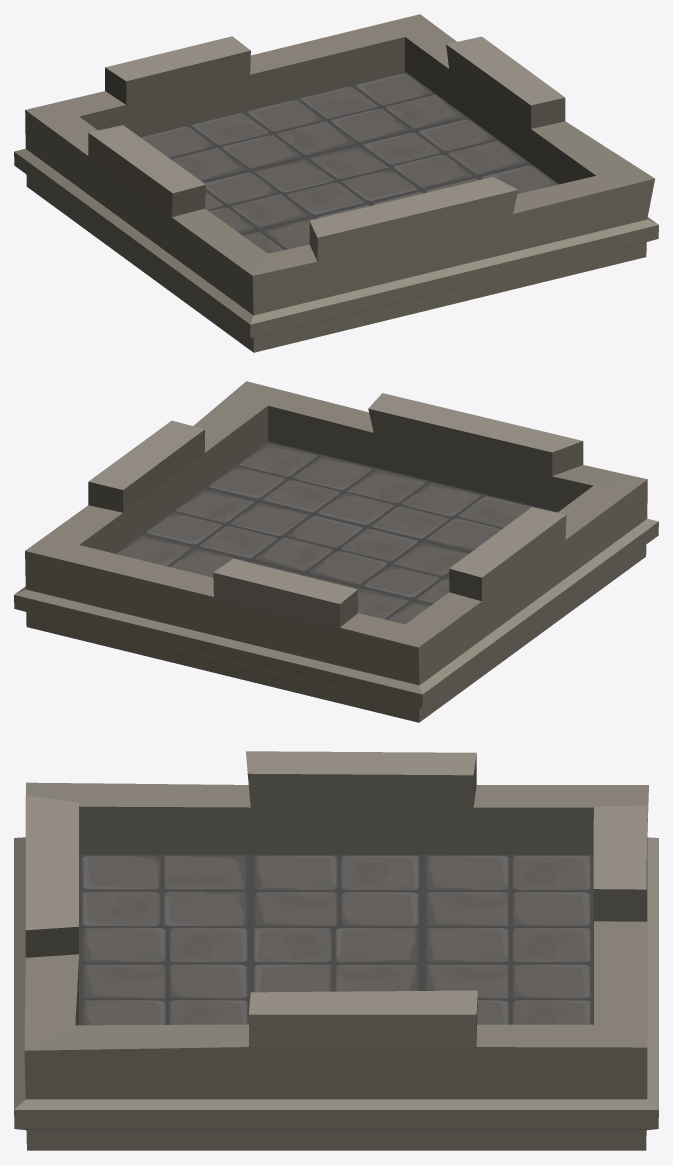
The model's file is RoofTop_A07.fbx.
3 renders of one model, top to bottom at view 1: azimuth 30°, elevation 25°; view 2: azimuth 150°, elevation 25°; view 3: azimuth 270°, elevation 25°, orthographic. The views are drawn at different scales.
Parts seen in each view (by area): view 1: RoofTop_A07; view 2: RoofTop_A07; view 3: RoofTop_A07.
Boxes of the visible parts, box(x1,y1,x2,y2) form: RoofTop_A07: box(14, 14, 658, 352); RoofTop_A07: box(14, 381, 658, 722); RoofTop_A07: box(14, 751, 658, 1150).
Size of the model in its own units: 638 by 150 by 639.
